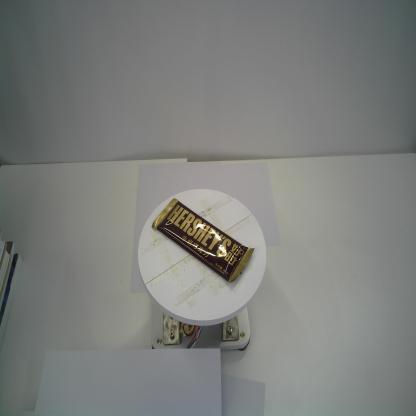Chocolate: (151, 197, 256, 284)
